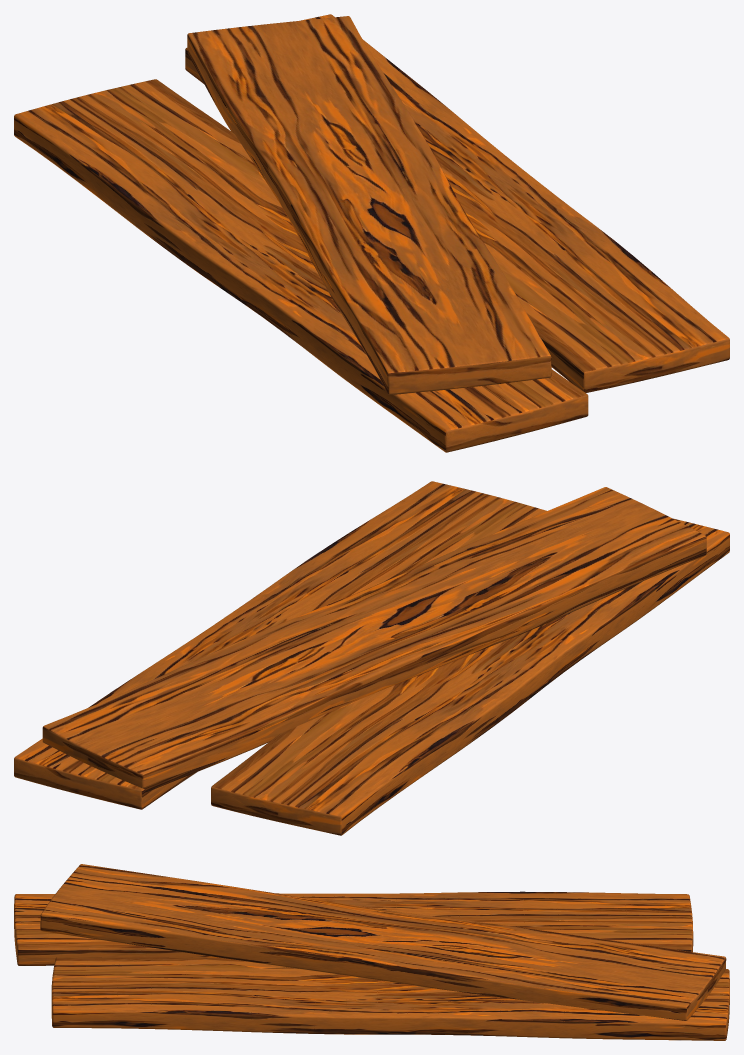
Rendered from planks.glb.
The picture shows the model from 3 angles, top to bottom: view 1: azimuth 30°, elevation 25°; view 2: azimuth 150°, elevation 25°; view 3: azimuth 270°, elevation 25°; orthographic projection. The views are drawn at different scales.
Visible parts, largest first — view 1: Plank2, Plank1, Plank3; view 2: Plank2, Plank1, Plank3; view 3: Plank2, Plank3, Plank1.
Part boxes in pixels (x1,y1,x2,y2): Plank2: [187, 16, 551, 394]; Plank1: [14, 79, 588, 452]; Plank3: [185, 14, 729, 392]; Plank2: [42, 487, 706, 792]; Plank1: [211, 518, 729, 835]; Plank3: [14, 481, 546, 809]; Plank2: [40, 864, 726, 1020]; Plank3: [51, 957, 729, 1040]; Plank1: [14, 891, 693, 965].
Size of the model in its own units: 0.9637 by 0.1465 by 2.14.
1 material, 1 textured.
